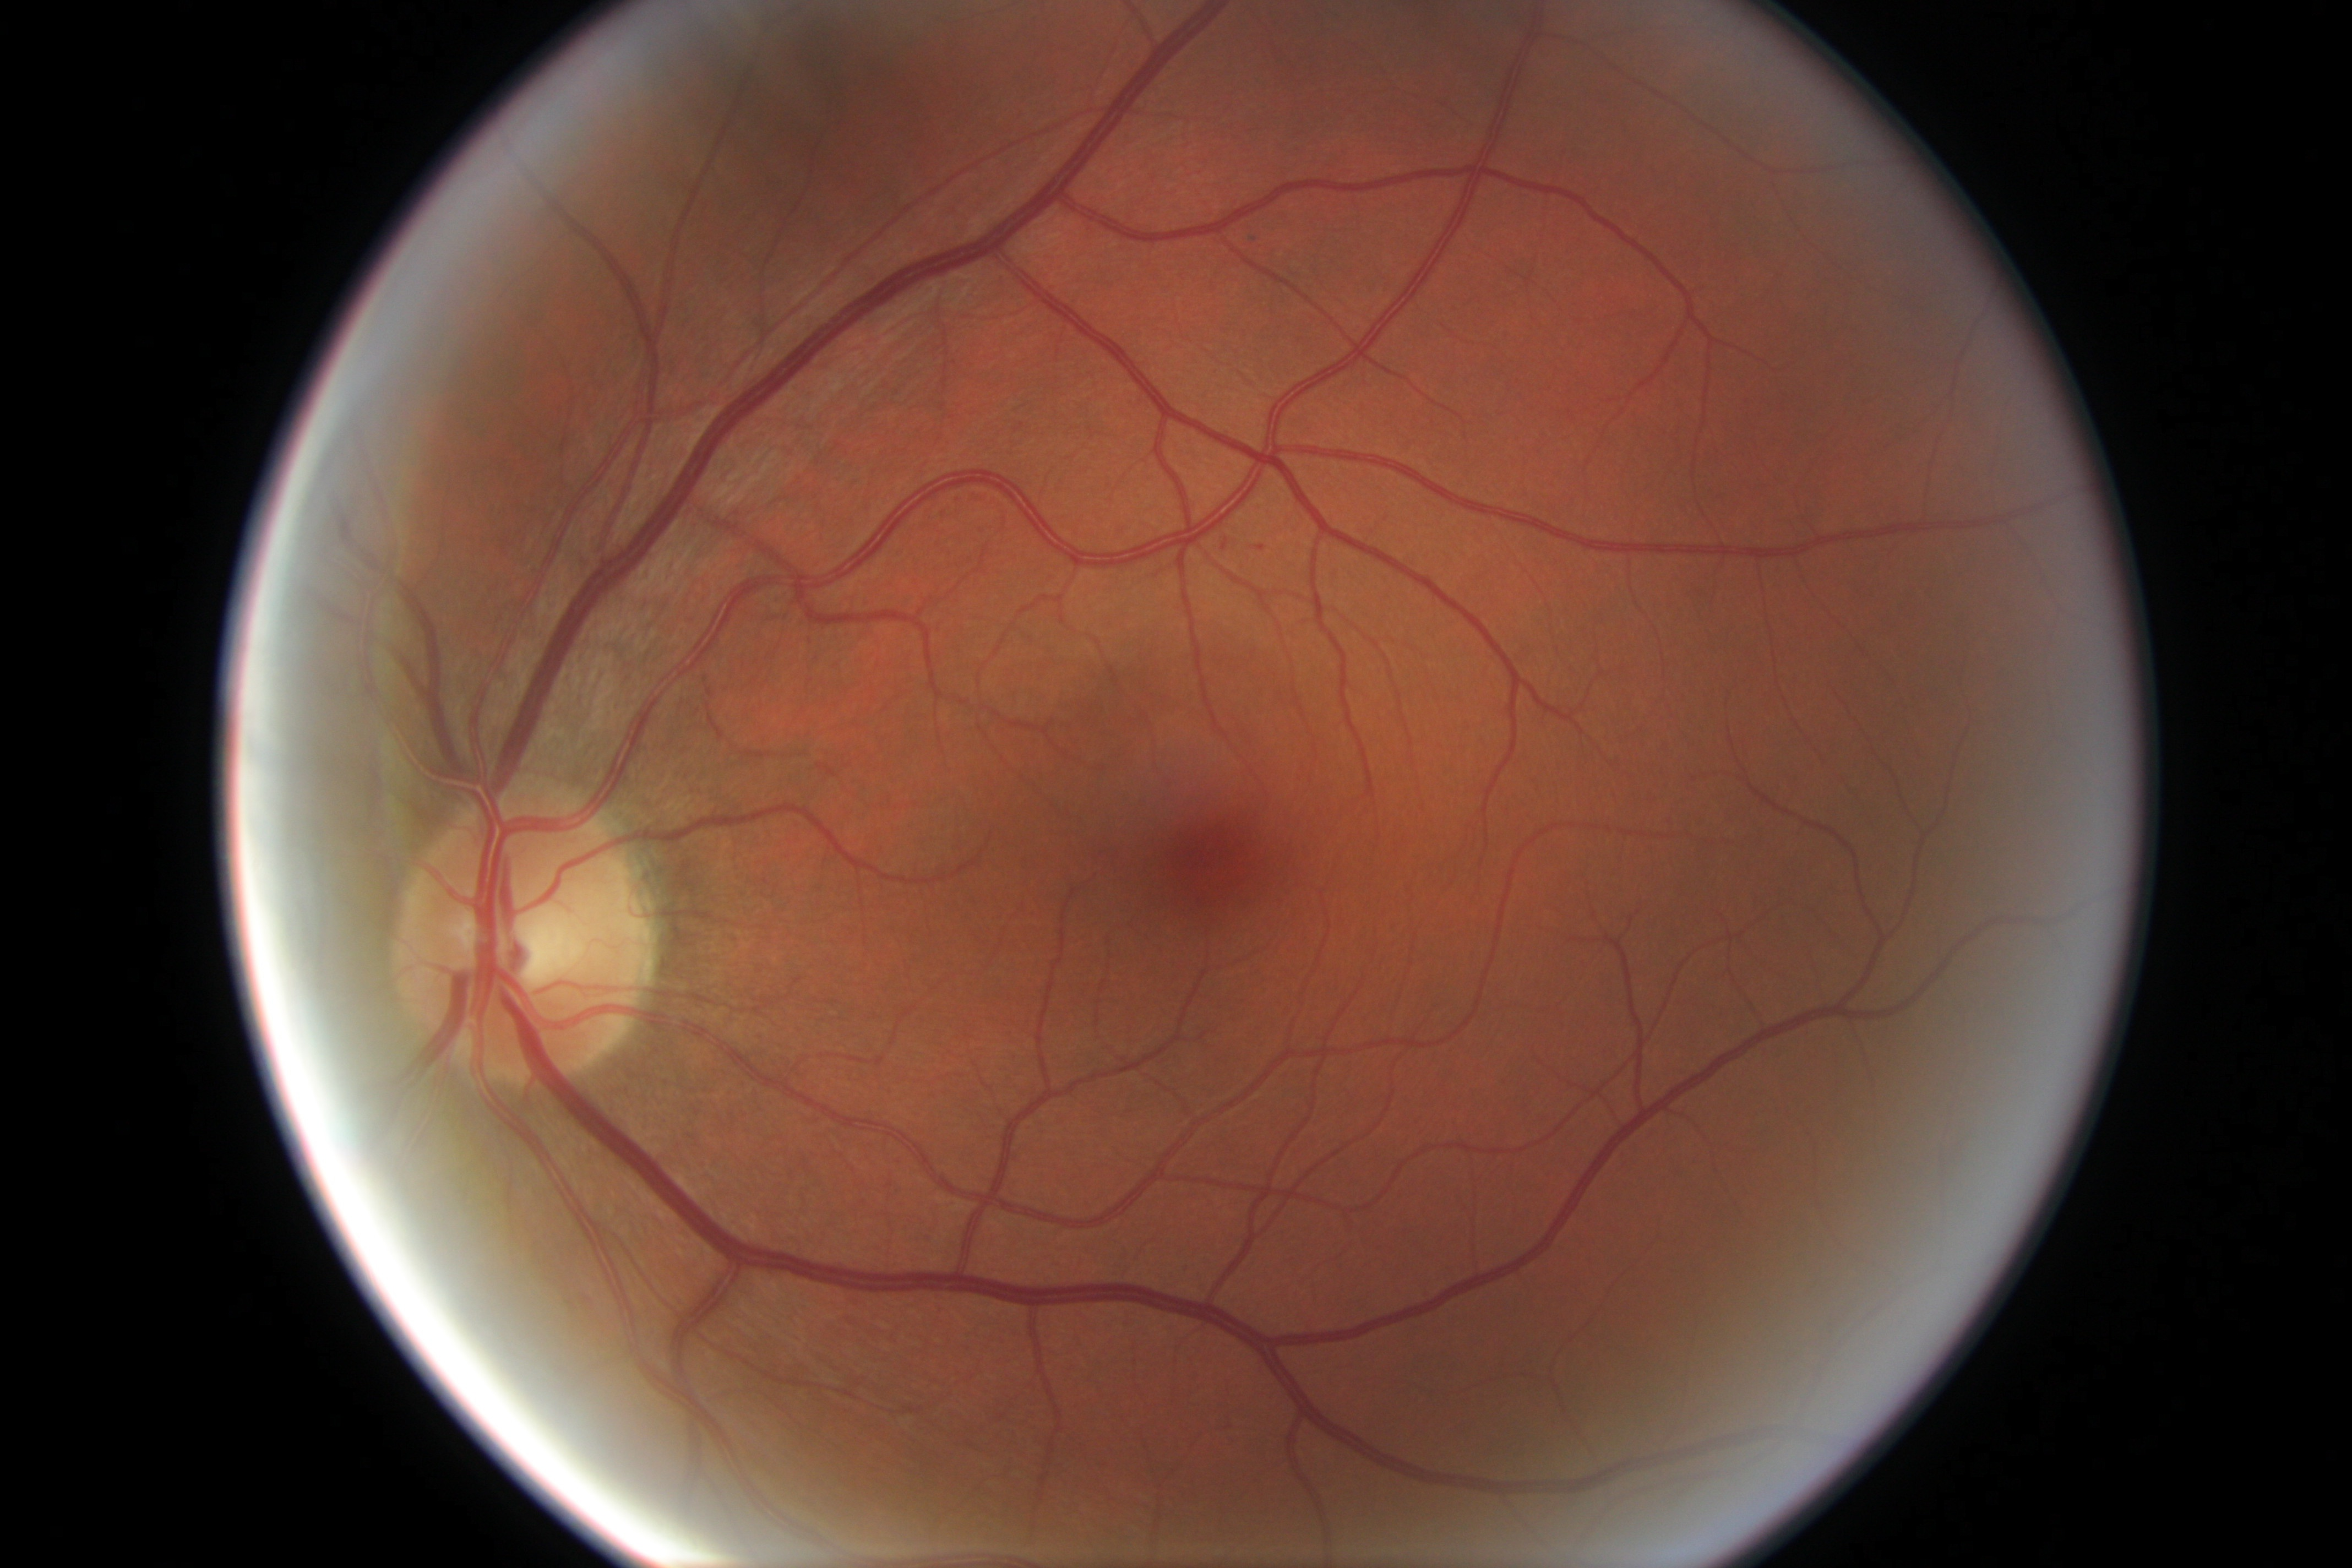Fovea: (1118, 777, 1307, 968)
OD: (371, 761, 667, 1108)
